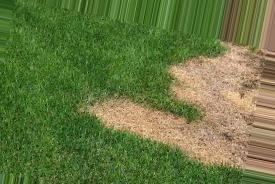patch: (108, 99, 236, 162), (186, 37, 262, 117), (176, 61, 257, 102), (102, 98, 163, 135), (180, 130, 238, 162), (205, 104, 252, 128), (234, 46, 262, 80)
